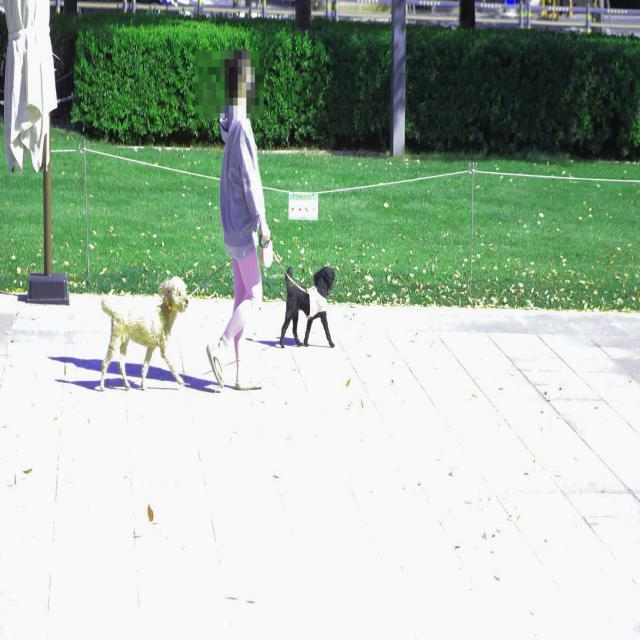Leashed_Dog: (97, 245, 240, 396), (246, 226, 335, 348)
